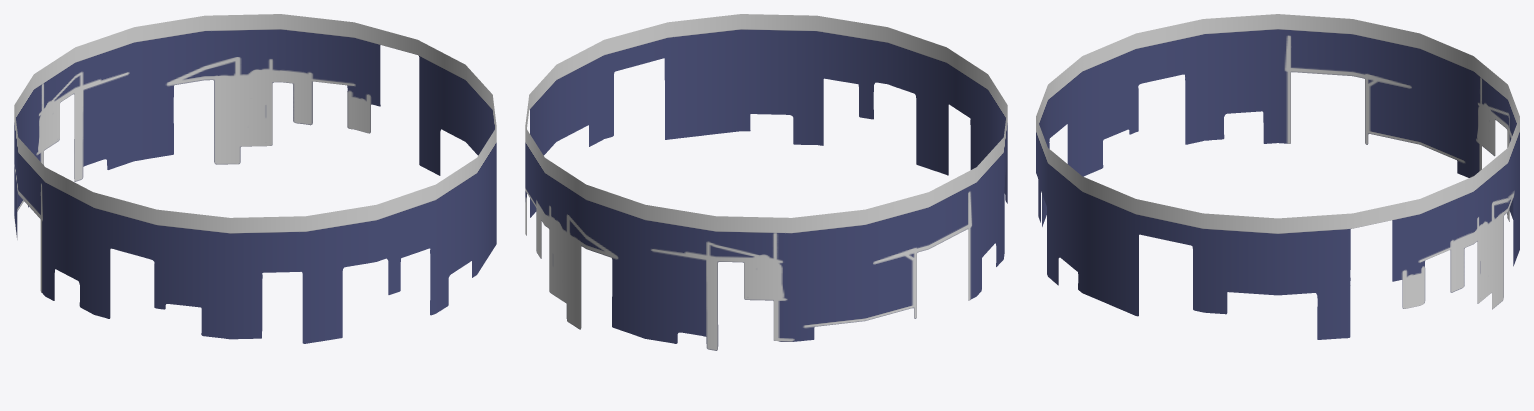
File: Background_Lv1.fbx
3 renders of one model, left to right at view 1: azimuth 30°, elevation 25°; view 2: azimuth 150°, elevation 25°; view 3: azimuth 270°, elevation 25°, orthographic.
Visible parts, largest first — view 1: pCylinder1; view 2: pCylinder1; view 3: pCylinder1.
Part boxes in pixels (x1,y1,x2,y2): pCylinder1: (14,14,496,343); pCylinder1: (525,14,1007,350); pCylinder1: (1036,14,1519,339).
Bounding box in the file's own units: 824704 × 335916 × 824704.
1 material, 1 textured.
